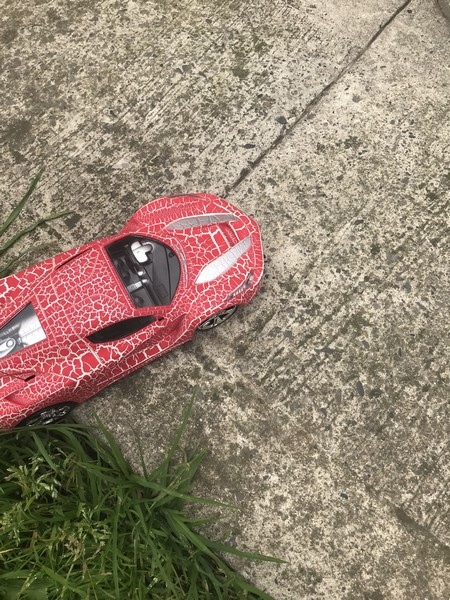RC: (1, 190, 276, 436)
